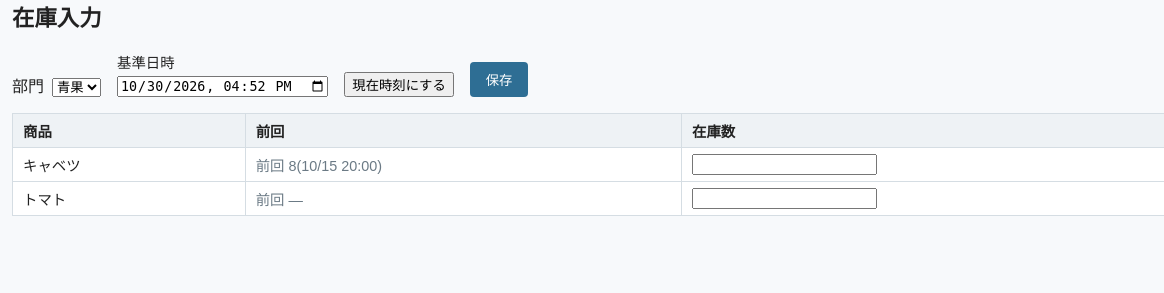
Scenario: now button resets based_at and empty based_at is rejected
Expected: the heading "在庫入力" is shown, [12,6,102,31]
Expected: the text "前回 8(10/15 20:00)" is shown, [245,147,682,181]
Clear the field labelled "基準日時" at (223,86), box [117,76,328,97]
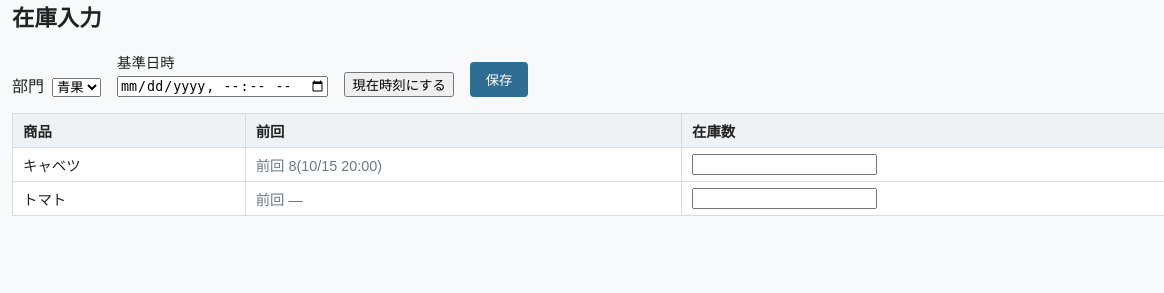
Type "5" into the number field named "キャベツ の在庫数" at (784,164), box [692,154,877,175]
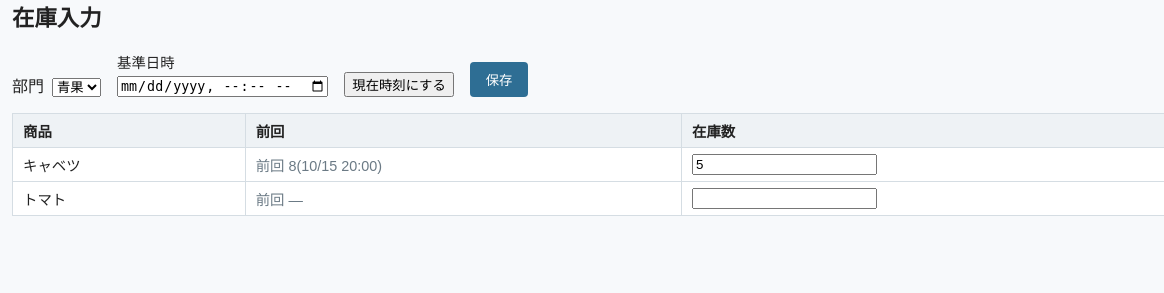
Click the button "保存" at (499,79), box [470,62,528,97]
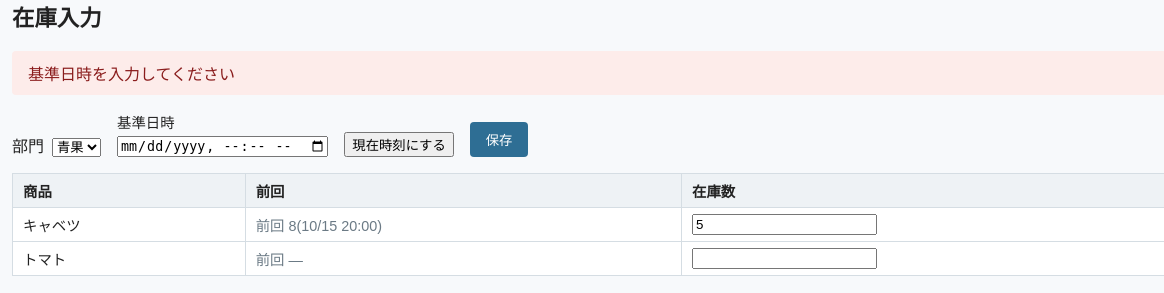
Now the message reads "基準日時を入力してください", box [28,66,235,83]
Click the button "現在時刻にする" at (399,144), box [344,132,454,157]
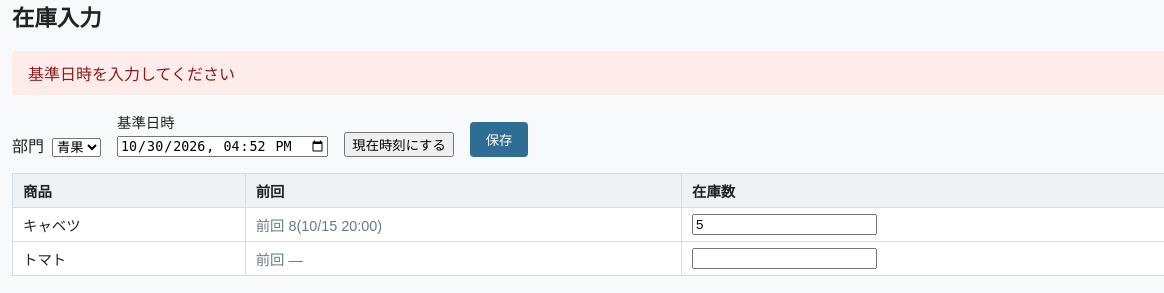
Now the field labelled "基準日時" is not empty, box [117,136,328,157]
